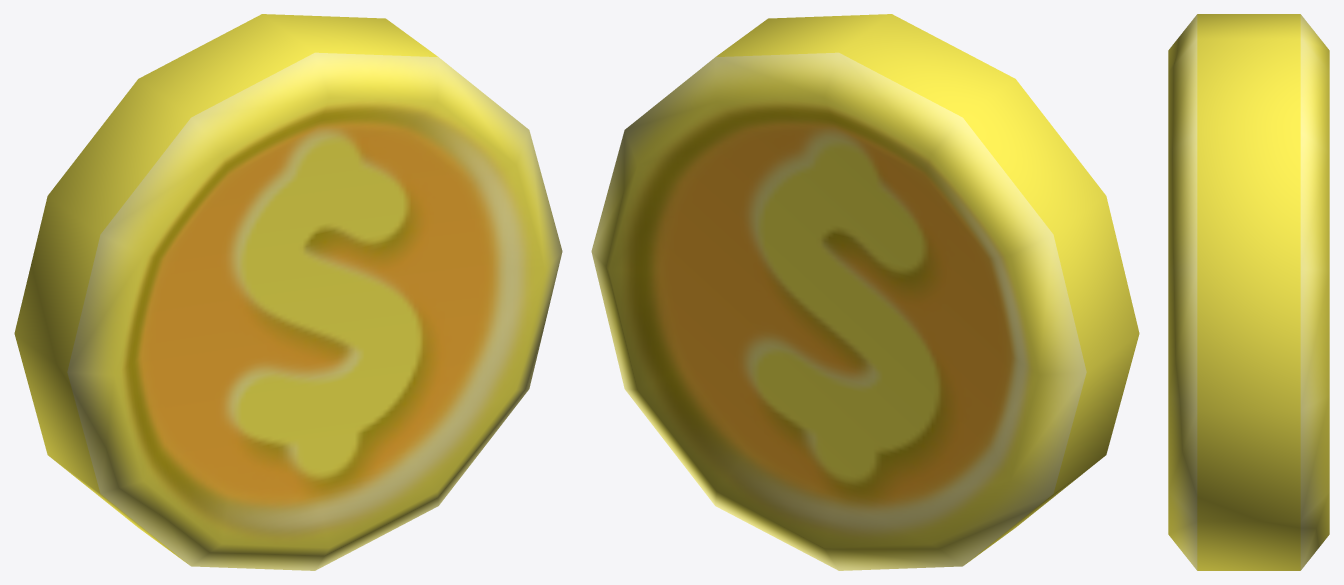
The model's file is coin.fbx.
The picture shows the model from 3 angles, left to right: view 1: azimuth 30°, elevation 25°; view 2: azimuth 150°, elevation 25°; view 3: azimuth 270°, elevation 25°; orthographic projection. The views are drawn at different scales.
Parts seen in each view (by area): view 1: pCylinder1; view 2: pCylinder1; view 3: pCylinder1.
Boxes of the visible parts, box(x1,y1,x2,y2) form: pCylinder1: box(14, 14, 562, 570); pCylinder1: box(591, 14, 1139, 570); pCylinder1: box(1168, 14, 1329, 570).
Size of the model in its own units: 45.07 by 45.07 by 13.02.
1 material, 1 textured.
